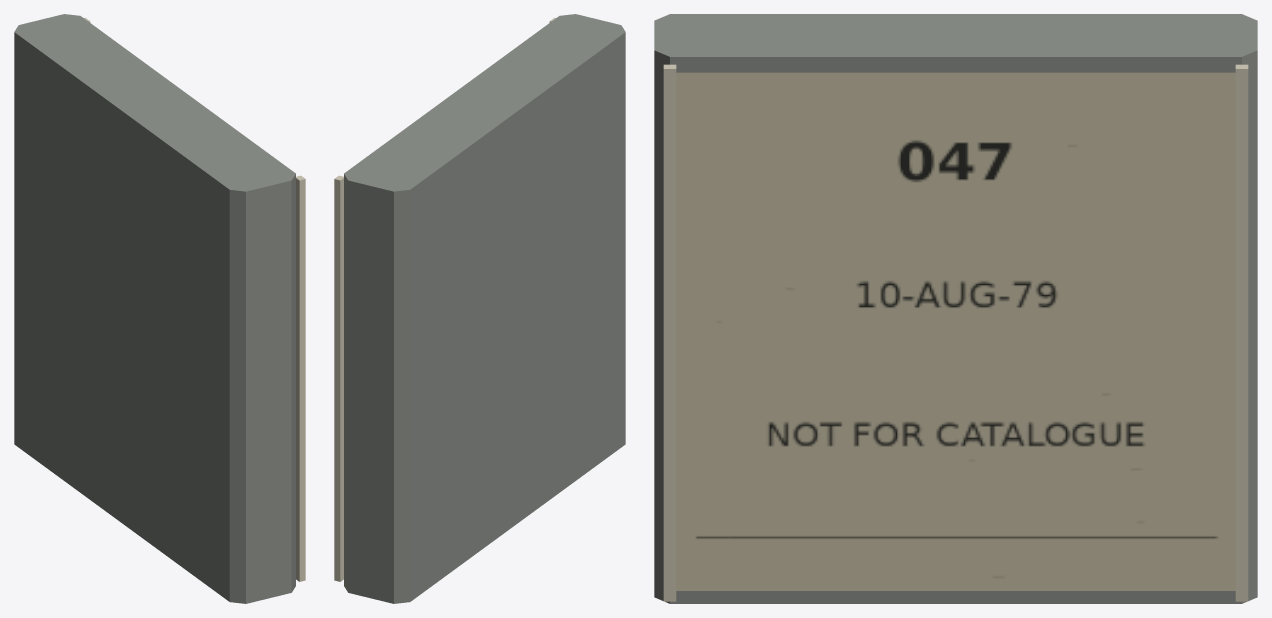
Rendered from SM_ArchiveProps_Reel047Box_LOD2.glb.
3 views of the same model, side by side, from view 1: azimuth 30°, elevation 25°; view 2: azimuth 150°, elevation 25°; view 3: azimuth 270°, elevation 25° (orthographic). The views are drawn at different scales.
Parts seen in each view (by area): view 1: SM_ArchiveProps_Reel047Box_LOD2; view 2: SM_ArchiveProps_Reel047Box_LOD2; view 3: SM_ArchiveProps_Reel047Box_LOD2.
Part boxes in pixels (left/top/right/bottom): SM_ArchiveProps_Reel047Box_LOD2: left=14, top=14, right=305, bottom=603; SM_ArchiveProps_Reel047Box_LOD2: left=334, top=14, right=625, bottom=603; SM_ArchiveProps_Reel047Box_LOD2: left=654, top=14, right=1257, bottom=603.
Size of the model in its own units: 0.0355 by 0.19 by 0.19.
3 materials, 1 textured.
